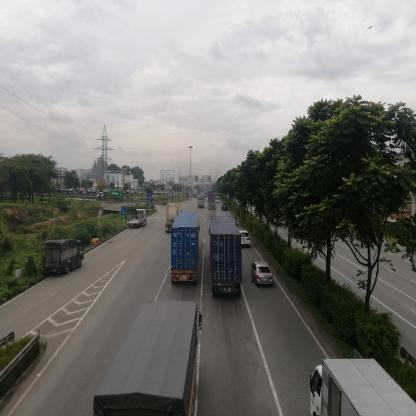car: (253, 261, 274, 284), (242, 232, 251, 247), (222, 204, 229, 212)
container: (172, 213, 200, 283), (211, 218, 236, 294), (97, 190, 125, 205), (167, 207, 180, 235)
truck: (115, 302, 203, 416), (311, 360, 416, 416), (47, 241, 85, 273), (128, 209, 148, 229)
